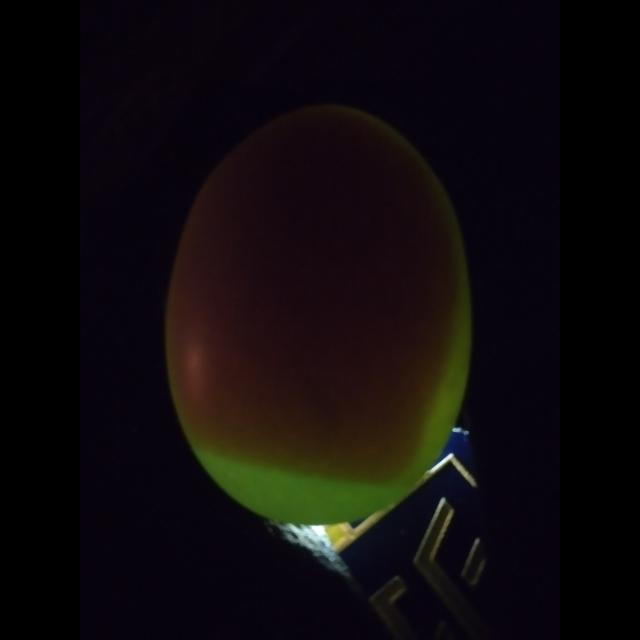Infertile: (164, 88, 474, 536)
